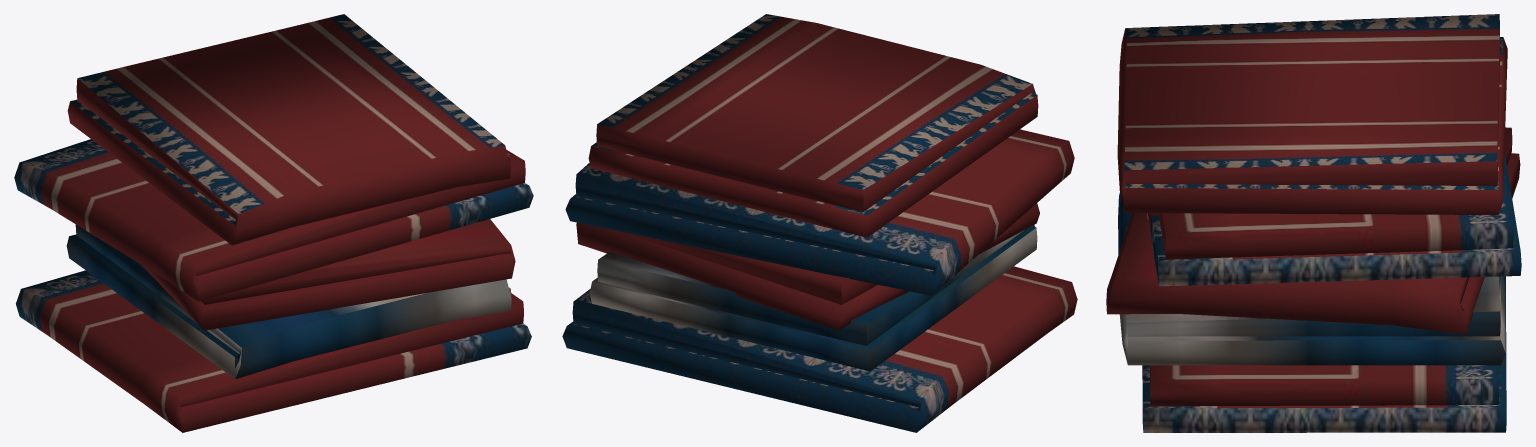
Rendered from SM_carpet_fold_01.glb.
3 renders of one model, left to right at view 1: azimuth 30°, elevation 25°; view 2: azimuth 150°, elevation 25°; view 3: azimuth 270°, elevation 25°, orthographic. The views are drawn at different scales.
Visible parts, largest first — view 1: SM_carpet_fold_01; view 2: SM_carpet_fold_01; view 3: SM_carpet_fold_01.
Boxes of the visible parts, <box> form: SM_carpet_fold_01: <box>14,14,533,432</box>; SM_carpet_fold_01: <box>562,14,1077,432</box>; SM_carpet_fold_01: <box>1106,14,1521,432</box>.
Size of the model in its own units: 0.9082 by 0.524 by 0.7678.
Materials: 1 (1 with a texture image).
